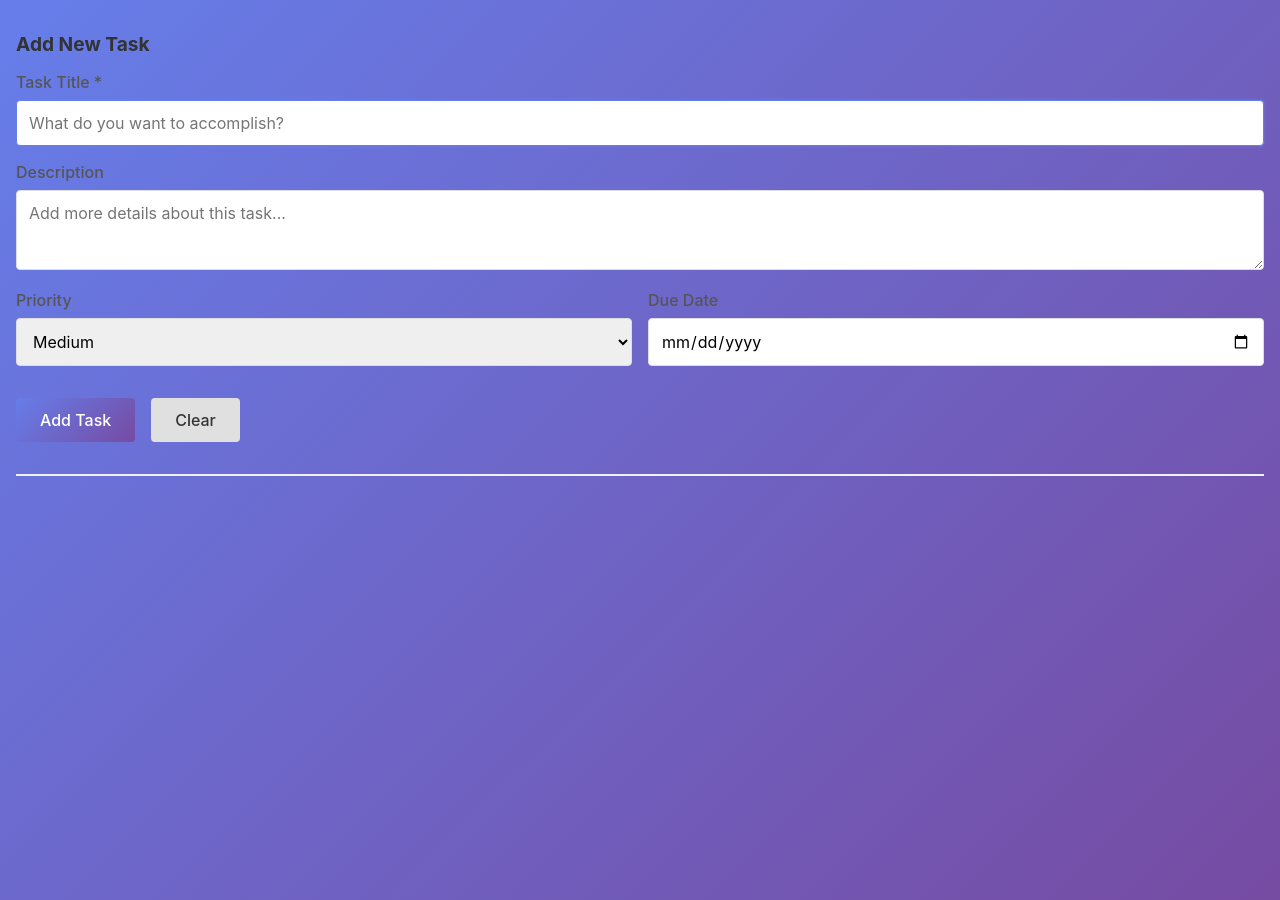
Test case: AddTodoForm shows error and does not submit when title is blank
The width and height of the screenshot is (1280, 900).
Click the button "Add Task" at (76, 420), box [16, 398, 135, 442]
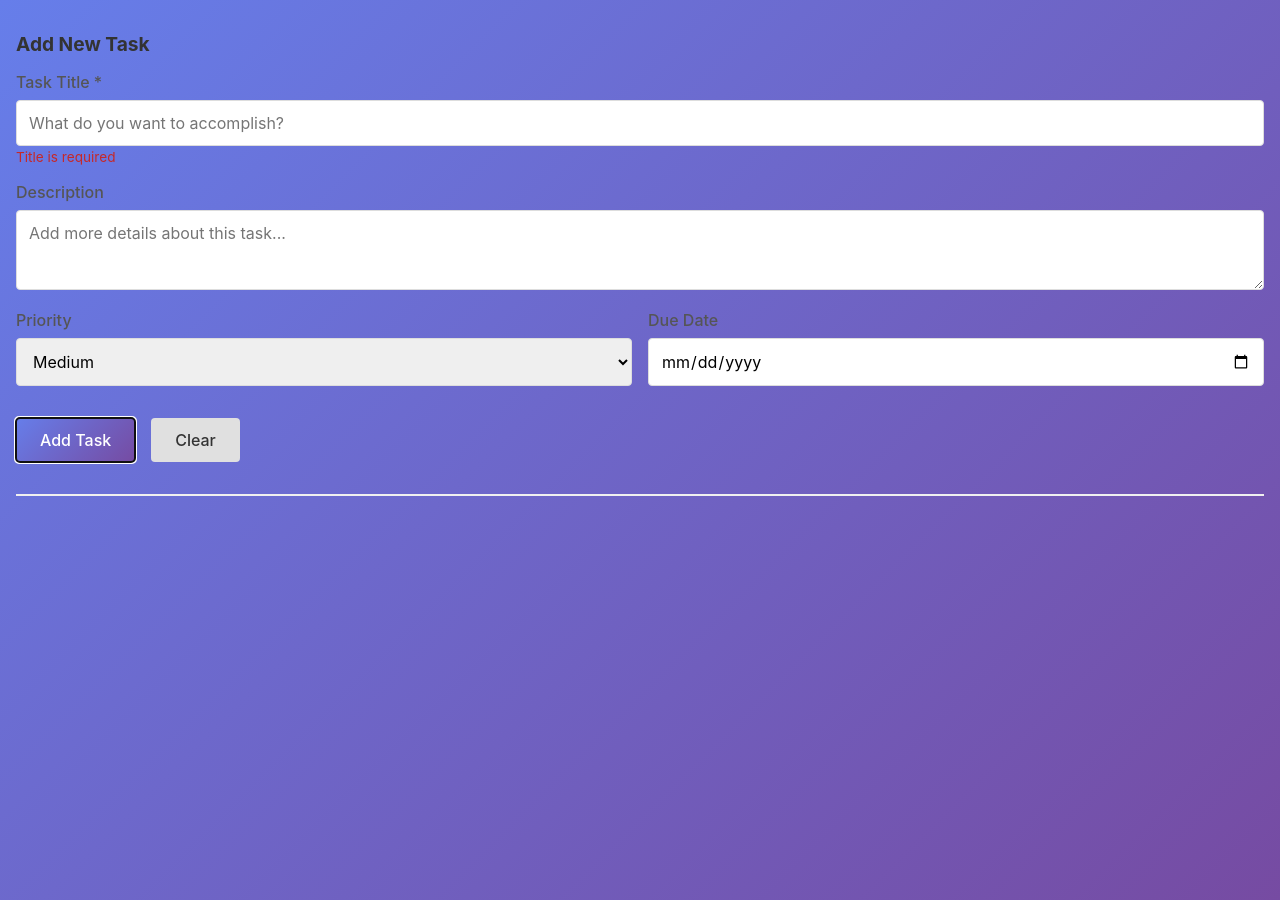
Check: the text "Title is required" is shown, box [16, 149, 116, 165]
